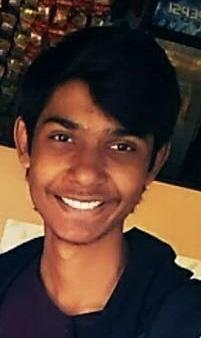No Mask: (8, 51, 185, 257)
